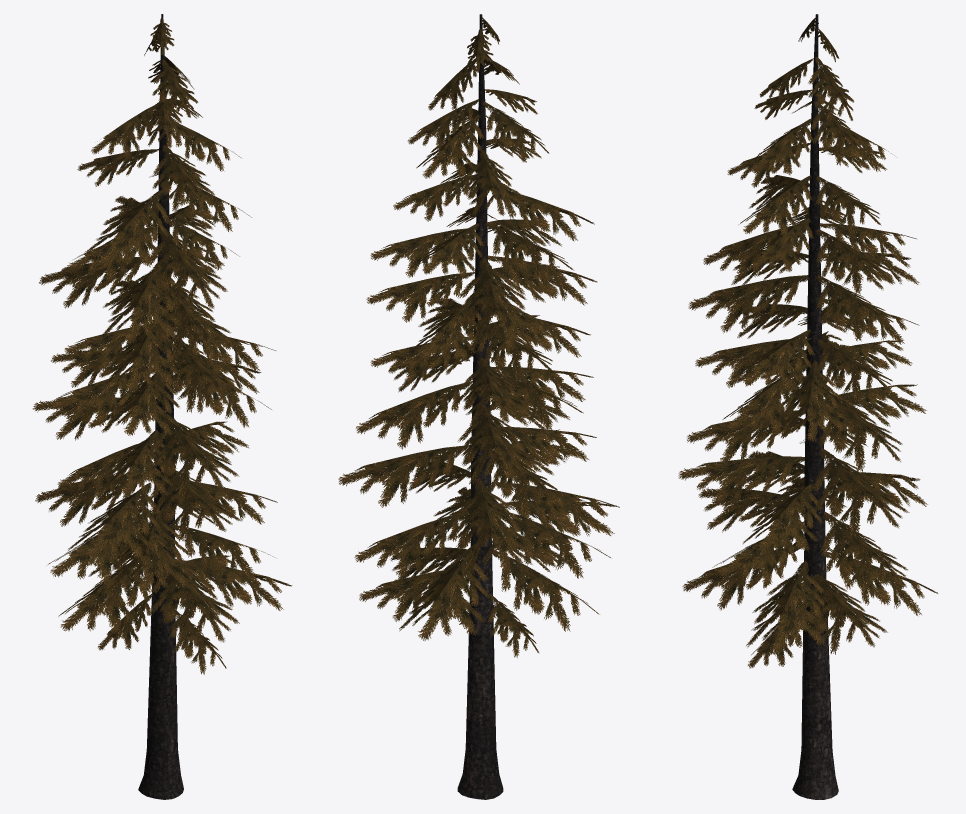
Rendered from pine_tree_n_1_2.glb.
The picture shows the model from 3 angles, left to right: view 1: azimuth 30°, elevation 25°; view 2: azimuth 150°, elevation 25°; view 3: azimuth 270°, elevation 25°; orthographic projection.
Visible parts, largest first — view 1: pine_tree_n_1_2_branches, pine_tree_n_1_2; view 2: pine_tree_n_1_2_branches, pine_tree_n_1_2; view 3: pine_tree_n_1_2_branches, pine_tree_n_1_2.
Part boxes in pixels (x1,y1,x2,y2): pine_tree_n_1_2_branches: (32,18,292,674); pine_tree_n_1_2: (138,14,183,799); pine_tree_n_1_2_branches: (338,17,619,657); pine_tree_n_1_2: (457,14,503,799); pine_tree_n_1_2_branches: (678,18,937,668); pine_tree_n_1_2: (792,14,838,799).
Bounding box in the file's own units: 2.85 × 8.19 × 2.71.
2 materials, 2 textured.
